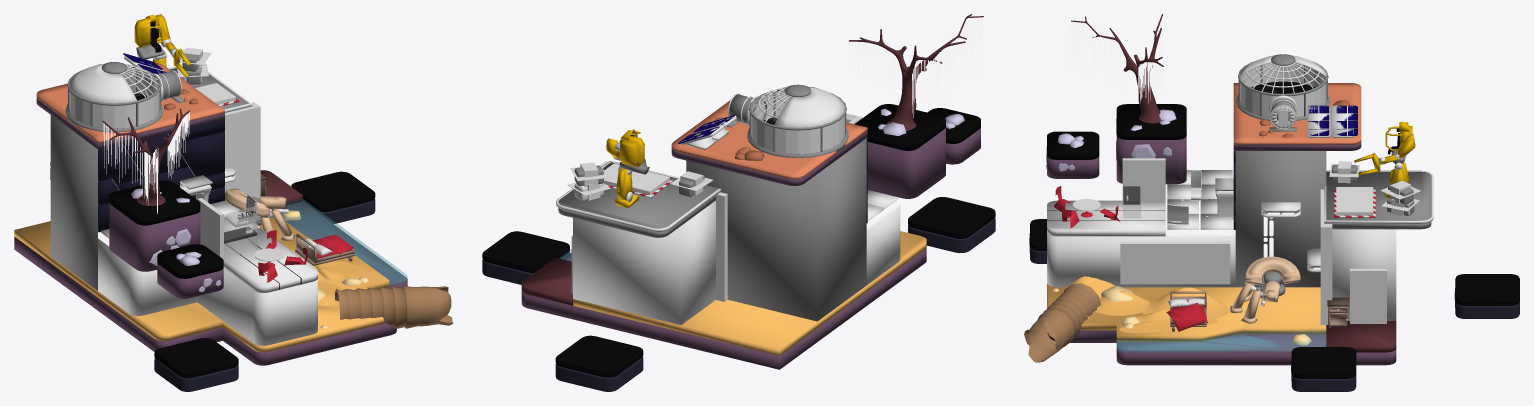
3 views of the same model, side by side, from view 1: azimuth 30°, elevation 25°; view 2: azimuth 150°, elevation 25°; view 3: azimuth 270°, elevation 25° (orthographic). The views are drawn at different scales.
Parts seen in each view (by area): view 1: Plane.006, Plane, Plane.008, Plane.002, Plane.085, Circle.007, Plane.100, Plane.011, Plane.005, Cube.037, Plane.103, Plane.088 (+25 smaller); view 2: Plane.008, Plane.004, Plane.002, Plane, Plane.011, Plane.102, Plane.088, Plane.100, Plane.049, Vert.006, Plane.103, Plane.012 (+20 smaller); view 3: Plane.008, Plane.002, Plane, Plane.032, Plane.006, Plane.004, Plane.005, Plane.017, Circle.007, Plane.088, Plane.103, Plane.102 (+35 smaller).
Boxes of the visible parts, x1,y1,x2,y2 form: Plane.006: [98, 238, 317, 345]; Plane: [14, 201, 407, 365]; Plane.008: [50, 115, 195, 290]; Plane.002: [14, 217, 389, 352]; Plane.085: [98, 119, 224, 232]; Circle.007: [335, 286, 453, 328]; Plane.100: [154, 338, 238, 391]; Plane.011: [109, 203, 200, 271]; Plane.005: [223, 227, 317, 292]; Cube.037: [224, 102, 260, 210]; Plane.103: [291, 171, 375, 223]; Plane.088: [36, 63, 224, 143]; Plane.008: [686, 138, 866, 321]; Plane.004: [573, 200, 715, 324]; Plane.002: [573, 231, 926, 355]; Plane: [521, 248, 926, 369]; Plane.011: [867, 127, 945, 198]; Plane.102: [555, 335, 643, 391]; Plane.088: [671, 100, 867, 179]; Plane.100: [908, 197, 995, 253]; Plane.049: [558, 162, 718, 228]; Vert.006: [849, 17, 983, 117]; Plane.103: [482, 231, 569, 284]; Plane.012: [855, 104, 945, 150]; Plane.008: [1235, 151, 1326, 287]; Plane.002: [1047, 283, 1326, 341]; Plane: [1047, 330, 1396, 365]; Plane.032: [1120, 241, 1230, 284]; Plane.006: [1047, 233, 1235, 287]; Plane.004: [1332, 229, 1396, 320]; Plane.005: [1047, 200, 1165, 236]; Plane.017: [1117, 331, 1325, 352]; Circle.007: [1024, 283, 1100, 362]; Plane.088: [1233, 83, 1361, 144]; Plane.103: [1291, 347, 1356, 391]; Plane.102: [1454, 274, 1519, 318].
Bounding box in the file's own units: 10.94 × 7.44 × 14.19.
